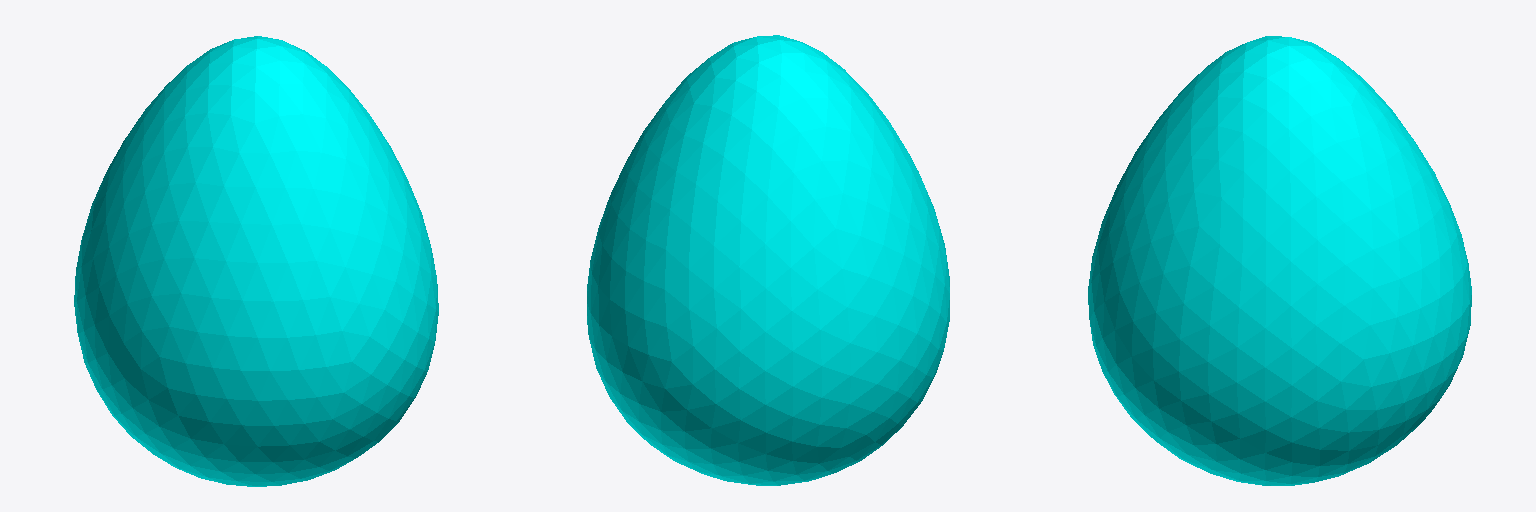
The model's file is balloonYellow.obj.
3 renders of one model, left to right at view 1: azimuth 30°, elevation 25°; view 2: azimuth 150°, elevation 25°; view 3: azimuth 270°, elevation 25°, orthographic.
Visible parts, largest first — view 1: selected_model.osgt_GeoSphere01_Geometry_0; view 2: selected_model.osgt_GeoSphere01_Geometry_0; view 3: selected_model.osgt_GeoSphere01_Geometry_0.
Part boxes in pixels (x1,y1,x2,y2): selected_model.osgt_GeoSphere01_Geometry_0: (74,36,438,486); selected_model.osgt_GeoSphere01_Geometry_0: (587,35,949,485); selected_model.osgt_GeoSphere01_Geometry_0: (1088,36,1471,485).
Size of the model in its own units: 98.45 by 129 by 105.